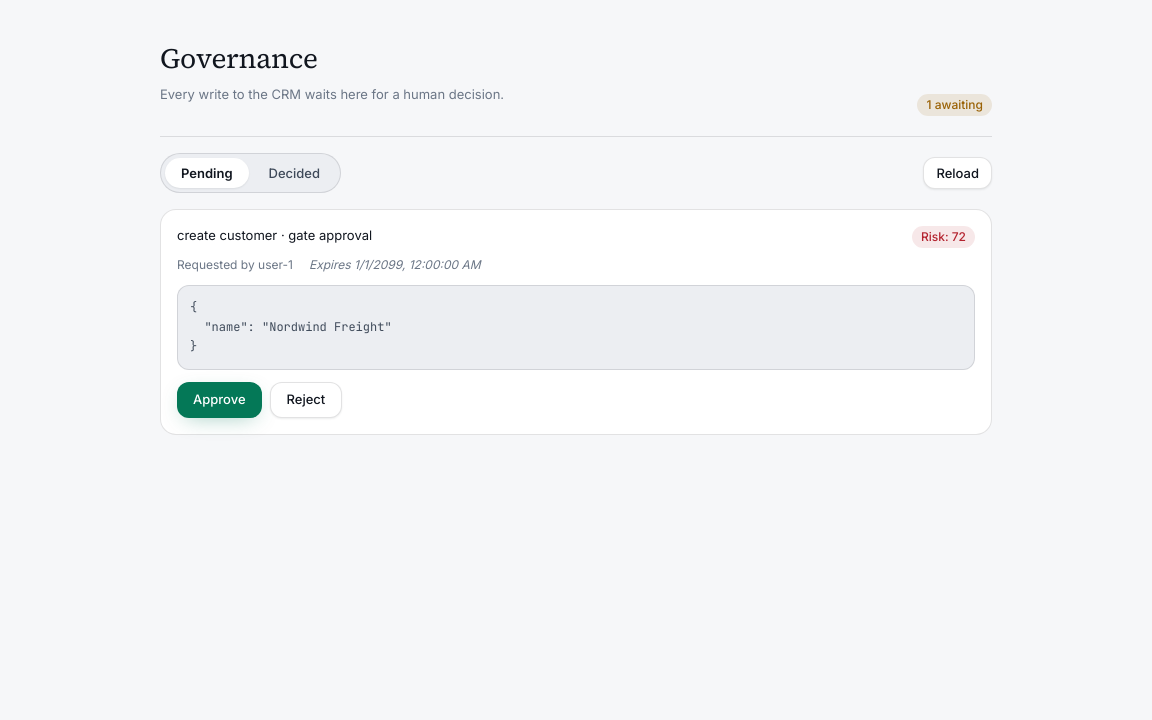
Test: ApprovalQueue › Reject sends a reason, because an empty audit field is not a rationale
Click the button "Reject". click: (306, 400)
box: [270,382,342,418]
(page scrolled)
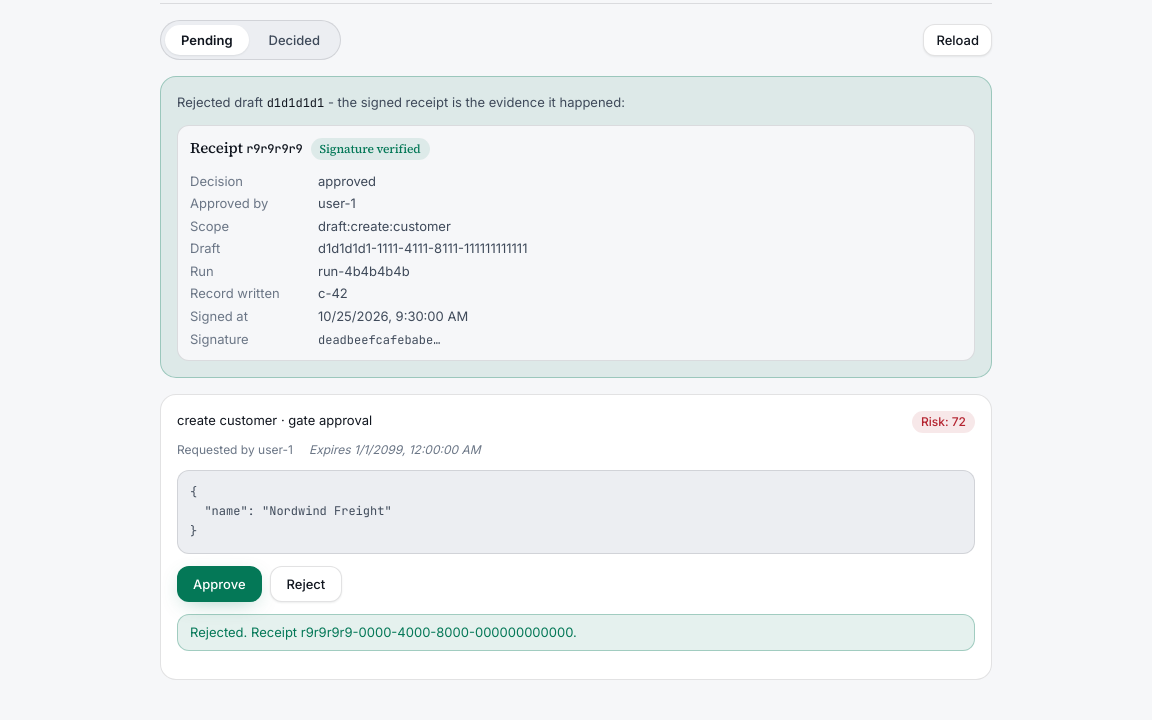
Expected: the text "Rejected. Receipt r9r9r9r9-0000-4000-8000-000000000000." is shown, [177,614,975,651]
